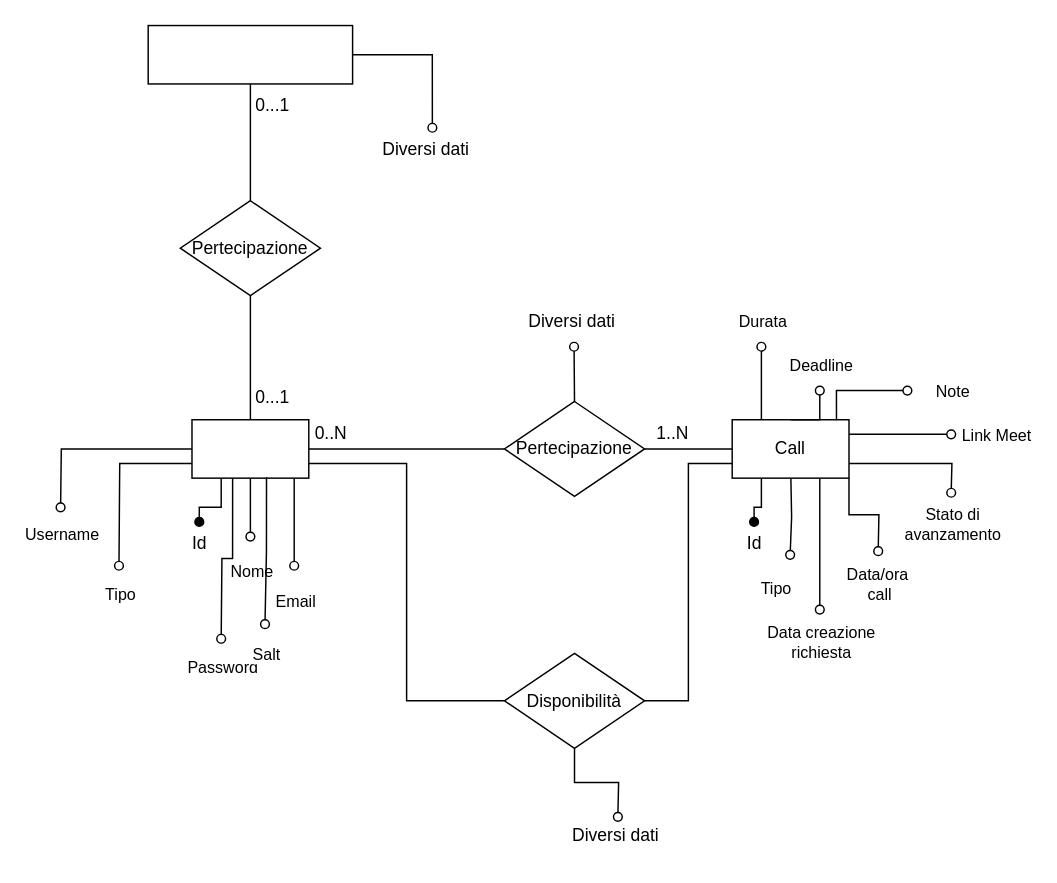
The diagram is 1057 pixels wide and 883 high, and some of its shapes have lost their labels. The box of each missing label's shape, as (x1, y1, x2, y2) in pixels:
OAuth_User_Tokens: (147, 24, 353, 84)
Utente: (191, 418, 309, 478)
